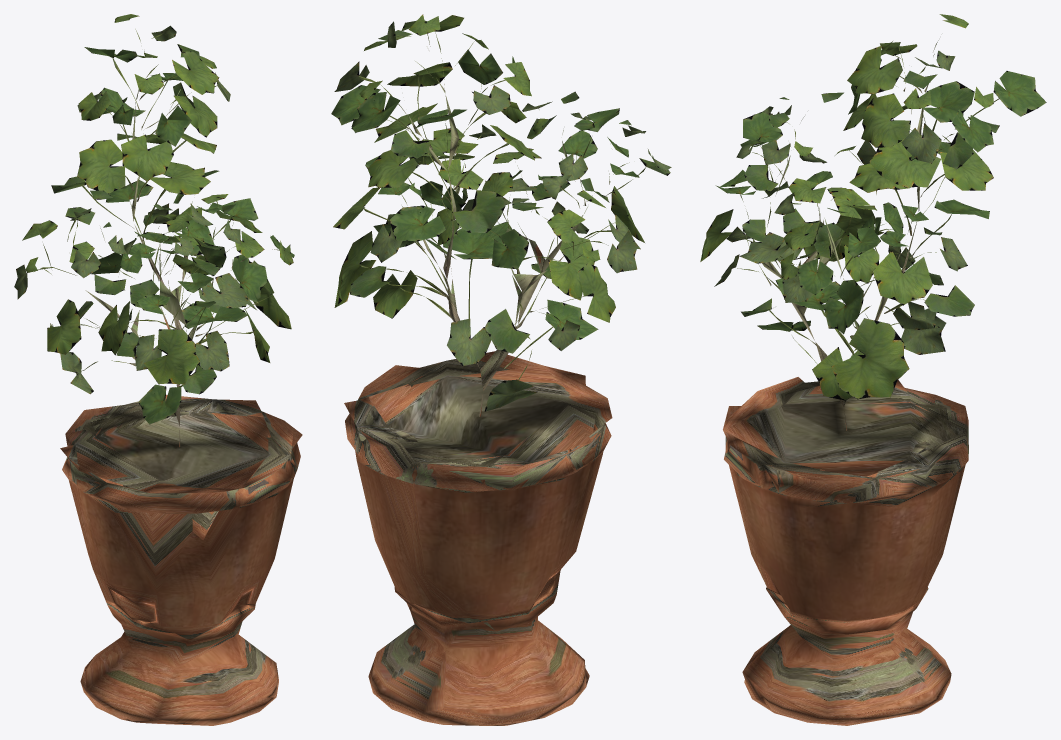
File: potted_plant_01.gltf
3 renders of one model, left to right at view 1: azimuth 30°, elevation 25°; view 2: azimuth 150°, elevation 25°; view 3: azimuth 270°, elevation 25°, orthographic. The views are drawn at different scales.
Size of the model in its own units: 0.5869 by 1.34 by 0.6315.
Materials: 2 (2 with a texture image).
